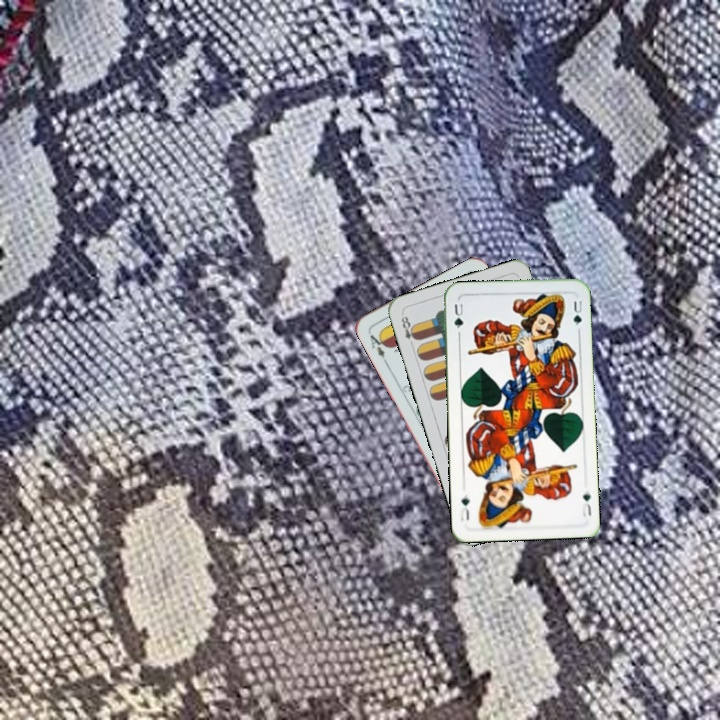E8: (397, 312, 420, 350)
EA: (364, 328, 390, 366)
GU: (450, 298, 466, 331), (578, 489, 594, 519)
